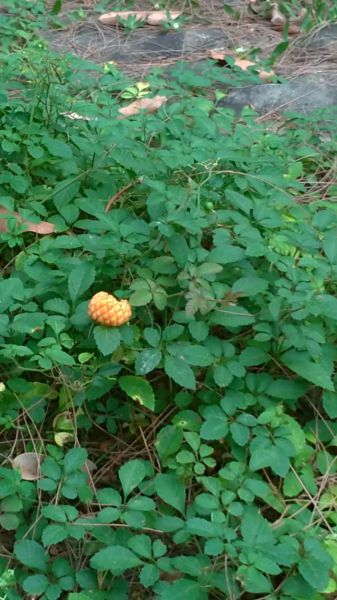eggs: (84, 285, 136, 334)
